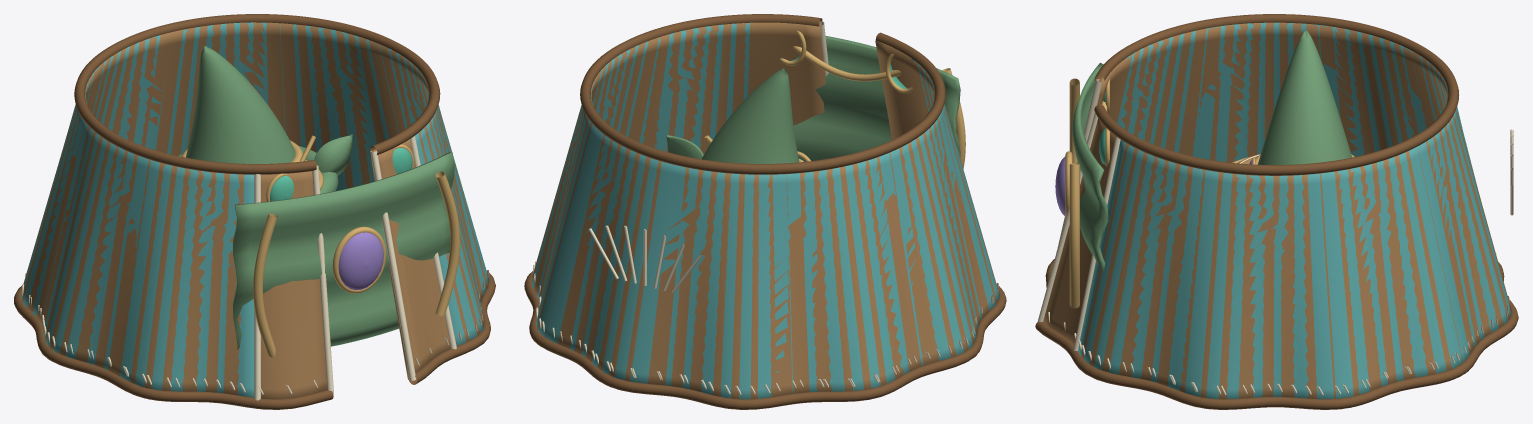
The model's file is manmarubuu-equipment.glb.
3 views of the same model, side by side, from view 1: azimuth 30°, elevation 25°; view 2: azimuth 150°, elevation 25°; view 3: azimuth 270°, elevation 25° (orthographic).
Parts seen in each view (by area): view 1: Fitted_body0, Fitted_body2, Fitted_body1, Fitted_head1, Fitted_horn1; view 2: Fitted_body0, Fitted_body2, Fitted_body1, Fitted_head1, Fitted_horn1; view 3: Fitted_body2, Fitted_body0, Fitted_head1, Fitted_body1.
Part boxes in pixels (x1=…): Fitted_body0: x1=14, y1=14, x2=494, y2=409; Fitted_body2: x1=14, y1=14, x2=495, y2=408; Fitted_body1: x1=232, y1=152, x2=459, y2=357; Fitted_head1: x1=178, y1=46, x2=338, y2=193; Fitted_horn1: x1=314, y1=134, x2=353, y2=175; Fitted_body0: x1=524, y1=14, x2=1006, y2=409; Fitted_body2: x1=524, y1=14, x2=1006, y2=409; Fitted_body1: x1=793, y1=36, x2=965, y2=168; Fitted_head1: x1=702, y1=68, x2=799, y2=163; Fitted_horn1: x1=666, y1=135, x2=703, y2=159; Fitted_body2: x1=1073, y1=14, x2=1518, y2=409; Fitted_body0: x1=1035, y1=14, x2=1518, y2=409; Fitted_head1: x1=1249, y1=30, x2=1354, y2=164; Fitted_body1: x1=1055, y1=63, x2=1108, y2=308.
Bounding box in the file's own units: 1.24 × 0.7433 × 1.24.
